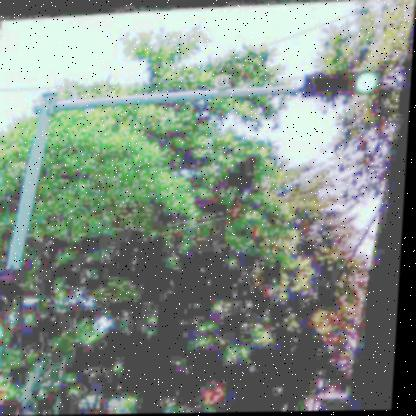Traffic Light -Green-: (302, 67, 387, 99), (0, 261, 30, 342)
